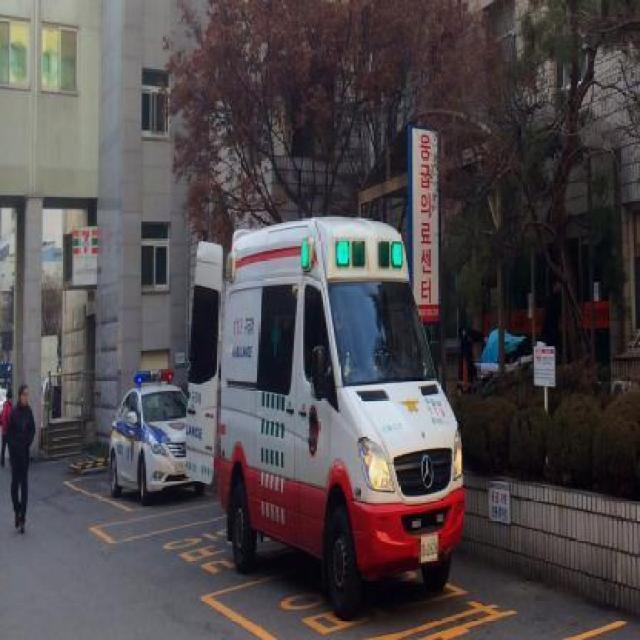emergency: (183, 214, 467, 618), (106, 366, 208, 504)
